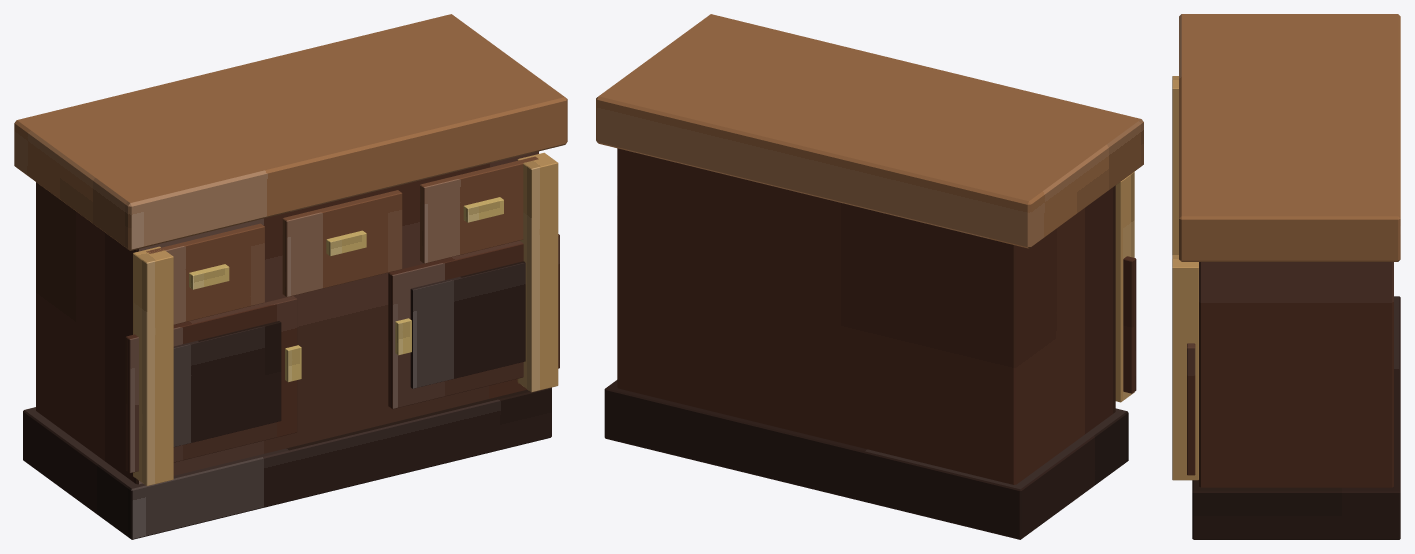
File: ornate_sideboard.glb
3 renders of one model, left to right at view 1: azimuth 30°, elevation 25°; view 2: azimuth 150°, elevation 25°; view 3: azimuth 270°, elevation 25°, orthographic. The views are drawn at different scales.
Visible parts, largest first — view 1: SideboardTop, SideboardBody, SideboardPlinth, DoorInset_2, DoorInset_1, TopDrawer_2, CarvedPost_L, CarvedPost_R, CabinetDoor_1, TopDrawer_3, CabinetDoor_2, TopDrawer_1 (+3 smaller); view 2: SideboardBody, SideboardTop, SideboardPlinth, CarvedPost_L, CabinetDoor_1; view 3: SideboardTop, SideboardBody, SideboardPlinth, CarvedPost_R, CarvedPost_L, CabinetDoor_2.
Boxes of the visible parts, x1,y1,x2,y2 form: SideboardTop: [14, 14, 567, 250]; SideboardBody: [36, 151, 538, 484]; SideboardPlinth: [23, 387, 551, 539]; DoorInset_2: [410, 261, 525, 388]; DoorInset_1: [173, 321, 281, 446]; TopDrawer_2: [282, 190, 402, 297]; CarvedPost_L: [133, 246, 173, 486]; CarvedPost_R: [517, 152, 558, 392]; CabinetDoor_1: [125, 296, 297, 473]; TopDrawer_3: [420, 156, 538, 263]; CabinetDoor_2: [388, 234, 559, 409]; TopDrawer_1: [146, 223, 264, 324]; SideboardBody: [617, 148, 1115, 484]; SideboardTop: [596, 14, 1143, 248]; SideboardPlinth: [604, 380, 1128, 539]; CarvedPost_L: [1115, 171, 1134, 402]; CabinetDoor_1: [1123, 256, 1136, 393]; SideboardTop: [1179, 14, 1400, 261]; SideboardBody: [1199, 262, 1393, 487]; SideboardPlinth: [1192, 296, 1400, 539]; CarvedPost_R: [1172, 255, 1198, 480]; CarvedPost_L: [1172, 76, 1178, 254]; CabinetDoor_2: [1187, 343, 1195, 475].
Bounding box in the file's own units: 1.44 × 1.07 × 0.68.
Materials: 1 (1 with a texture image).
